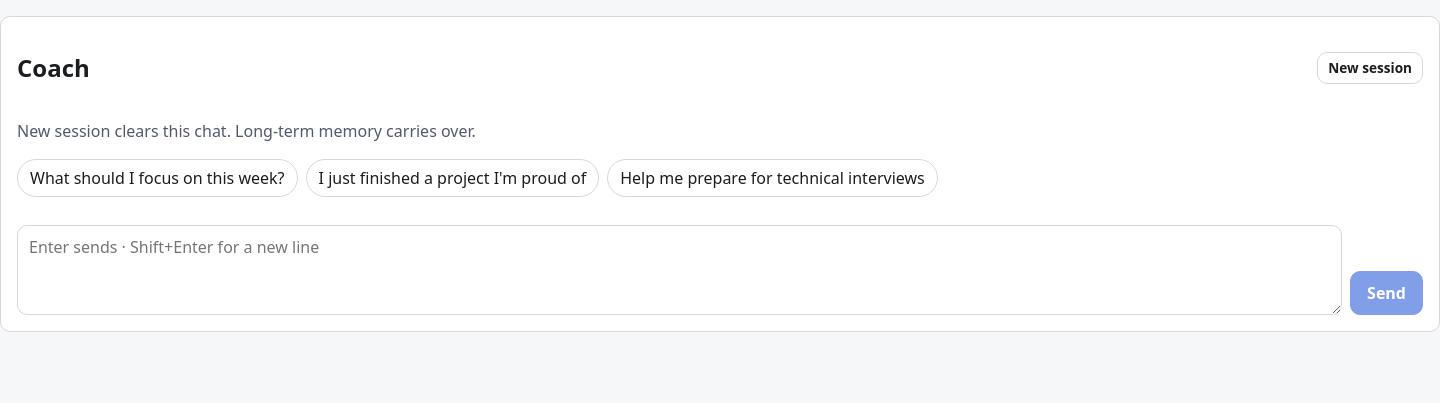
Test: CoachPanel › hands the complete refreshed profile up and says which version it is
In the text box named "Message the coach": (680, 270) [17, 225, 1342, 315], type "I passed it!"
Then press Enter
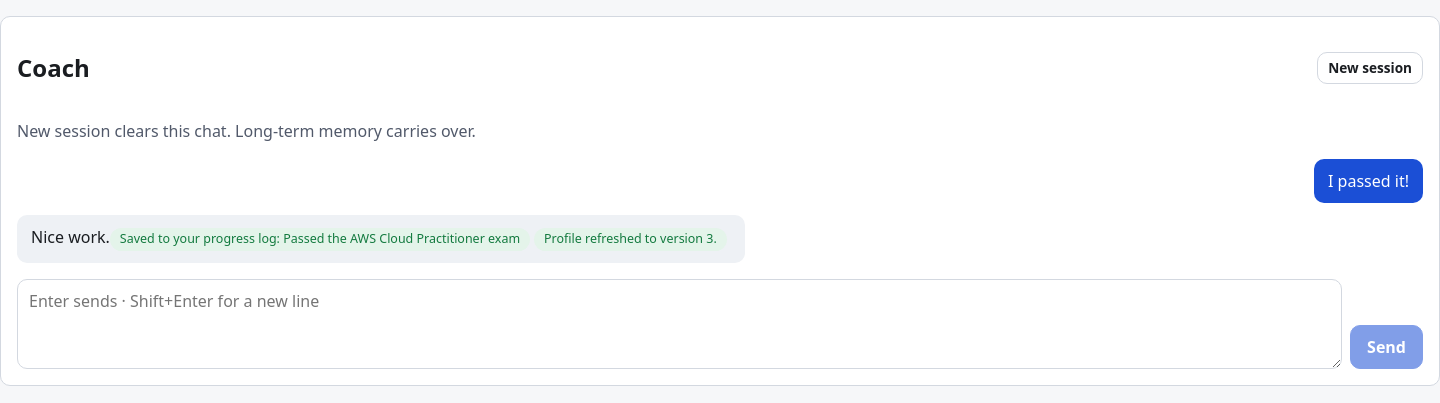
Now the text "Profile refreshed to version 3." is shown, box [534, 228, 727, 250]
